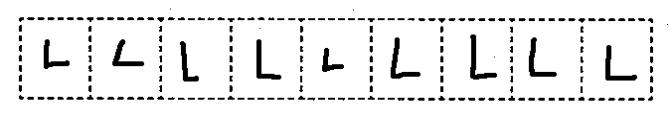L: (461, 29, 503, 85), (594, 40, 642, 89), (381, 35, 427, 86), (521, 33, 564, 81), (246, 34, 283, 88), (172, 36, 206, 90), (37, 33, 75, 77), (110, 33, 149, 72), (316, 43, 350, 80)
